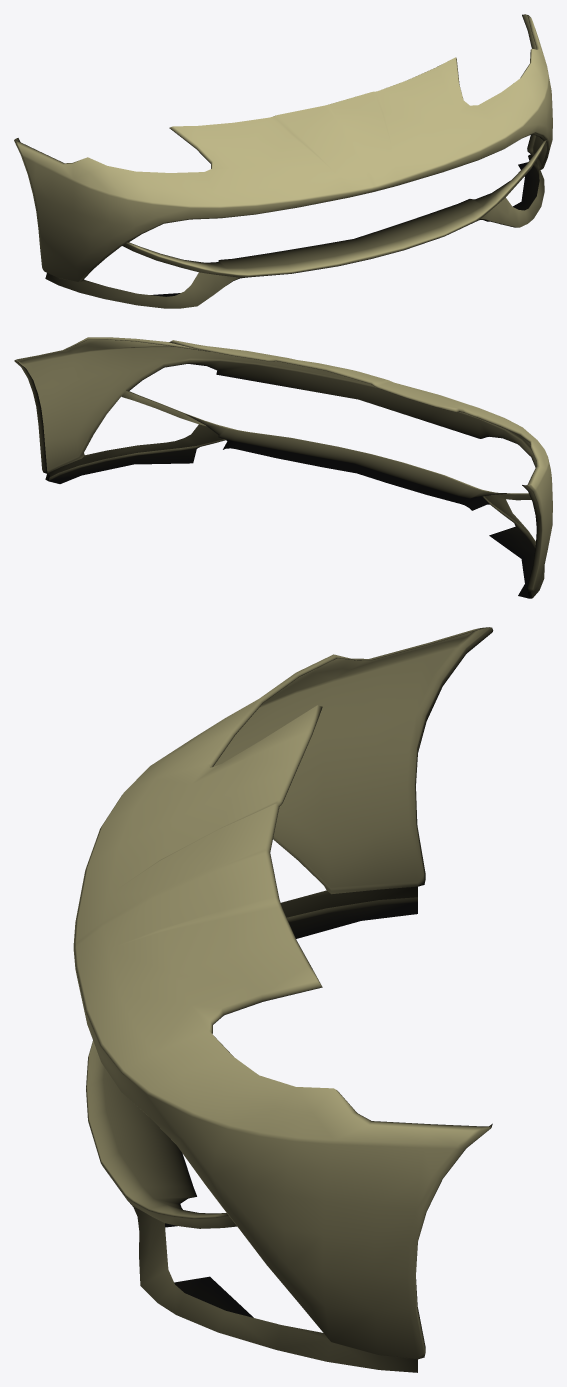
The model's file is Zr1_FB_02_Duco.fbx.
The picture shows the model from 3 angles, top to bottom: view 1: azimuth 30°, elevation 25°; view 2: azimuth 150°, elevation 25°; view 3: azimuth 270°, elevation 25°; orthographic projection. The views are drawn at different scales.
Parts seen in each view (by area): view 1: Zr1_FB_02_Duco; view 2: Zr1_FB_02_Duco; view 3: Zr1_FB_02_Duco.
Boxes of the visible parts, left/top/right/bottom form: Zr1_FB_02_Duco: left=14, top=14, right=552, bottom=308; Zr1_FB_02_Duco: left=14, top=337, right=552, bottom=598; Zr1_FB_02_Duco: left=73, top=627, right=493, bottom=1372.
Size of the model in its own units: 188 by 51.43 by 66.42.
